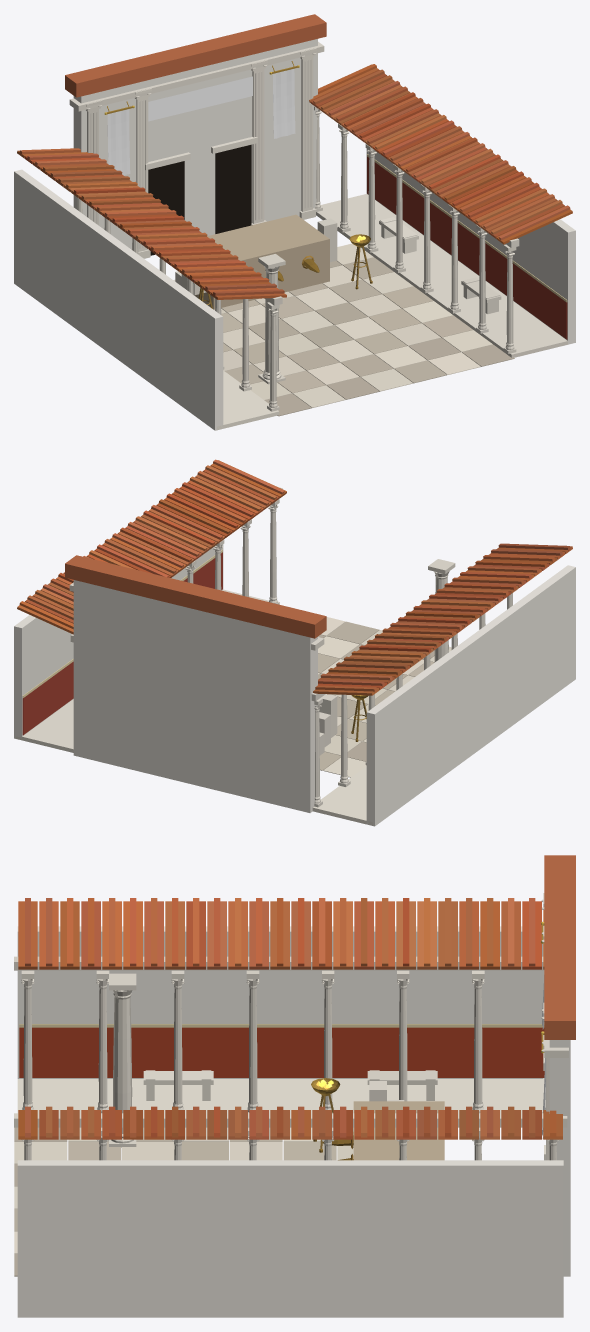
File: mon_forum.glb
3 views of the same model, one above another, from view 1: azimuth 30°, elevation 25°; view 2: azimuth 150°, elevation 25°; view 3: azimuth 270°, elevation 25° (orthographic). The views are drawn at different scales.
Visible parts, largest first — view 1: House; view 2: House; view 3: House.
Boxes of the visible parts, <box> form: House: <box>14,14,575,430</box>; House: <box>14,459,575,826</box>; House: <box>14,855,575,1317</box>.
Bounding box in the file's own units: 8.08 × 4.1 × 8.02.
Materials: 7 (7 with a texture image).
